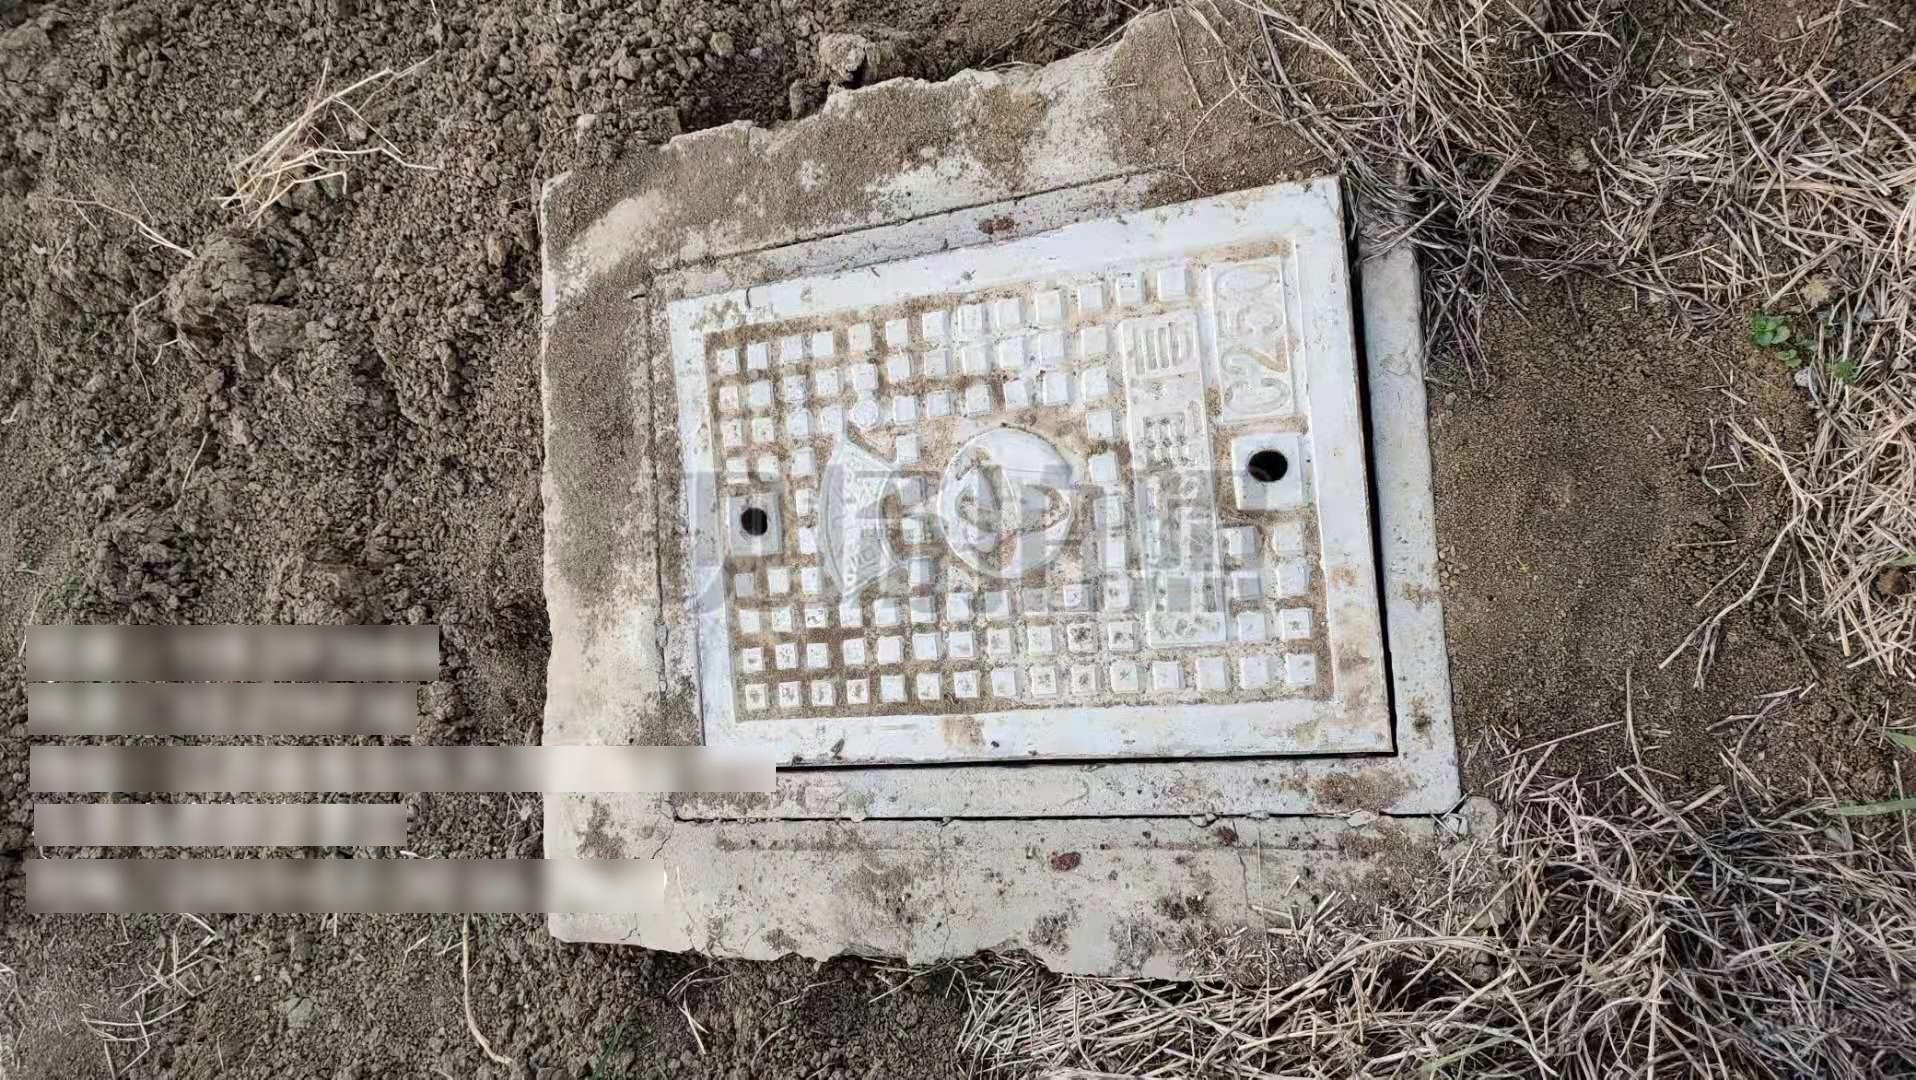well: (638, 141, 1450, 843)
